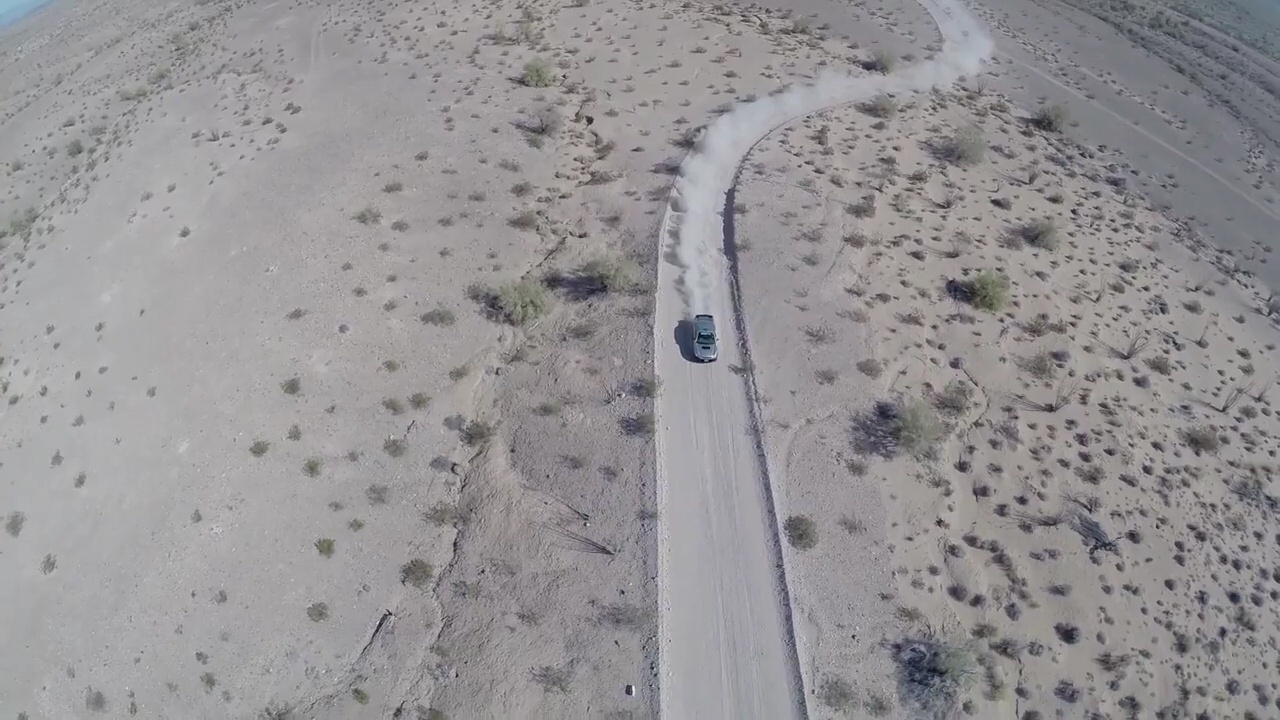araba: (692, 312, 720, 361)
